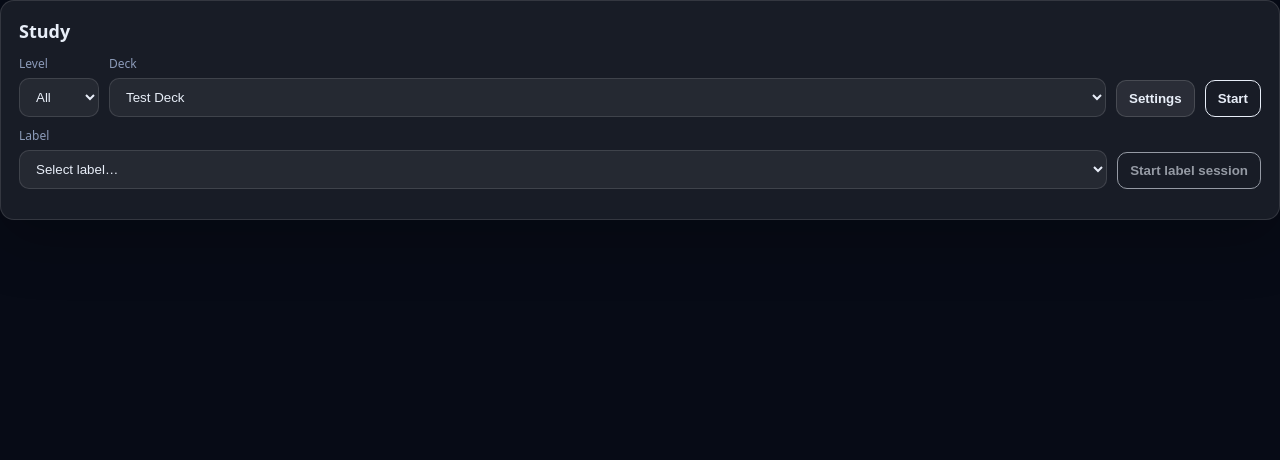
StudyView › Listening cards checkbox is unchecked by default
Expected: the text "Study" is shown, left=19, top=19, right=70, bottom=43
Click the button "Settings": (1155, 98) left=1116, top=80, right=1195, bottom=117
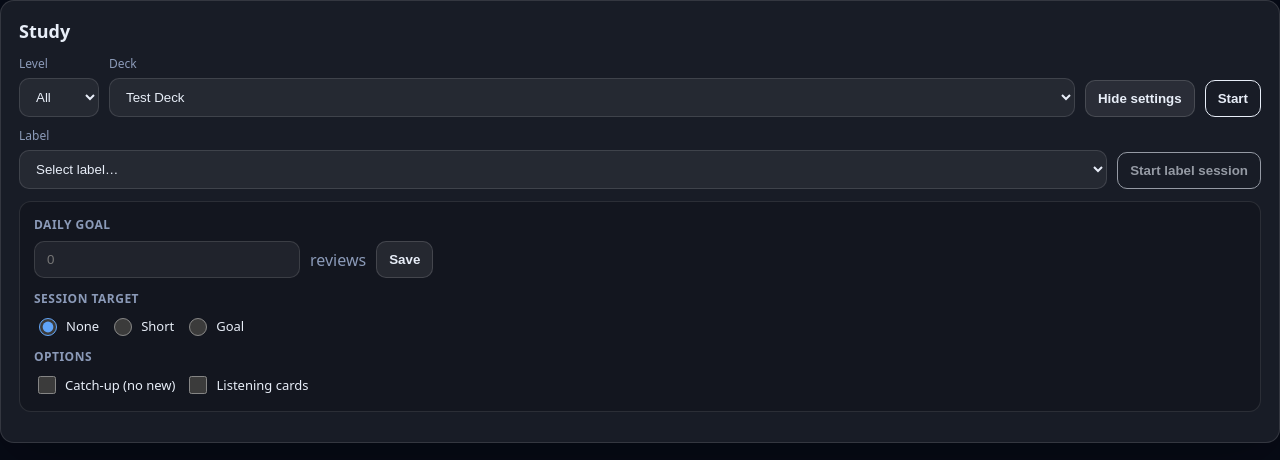
Now the checkbox labelled "Listening cards" is not checked, box left=190, top=376, right=208, bottom=394
